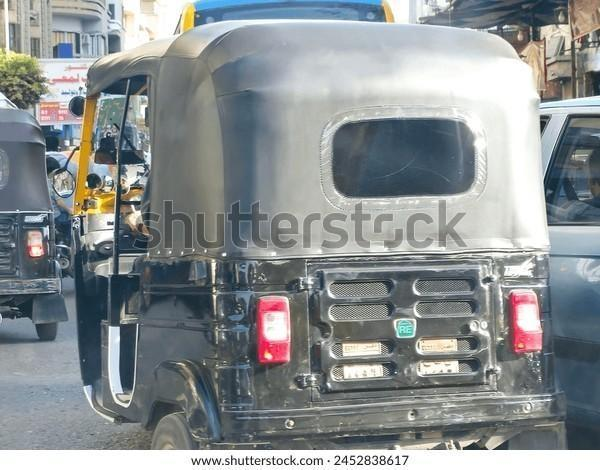keke: (70, 15, 572, 448), (57, 10, 520, 450), (0, 90, 67, 352)
